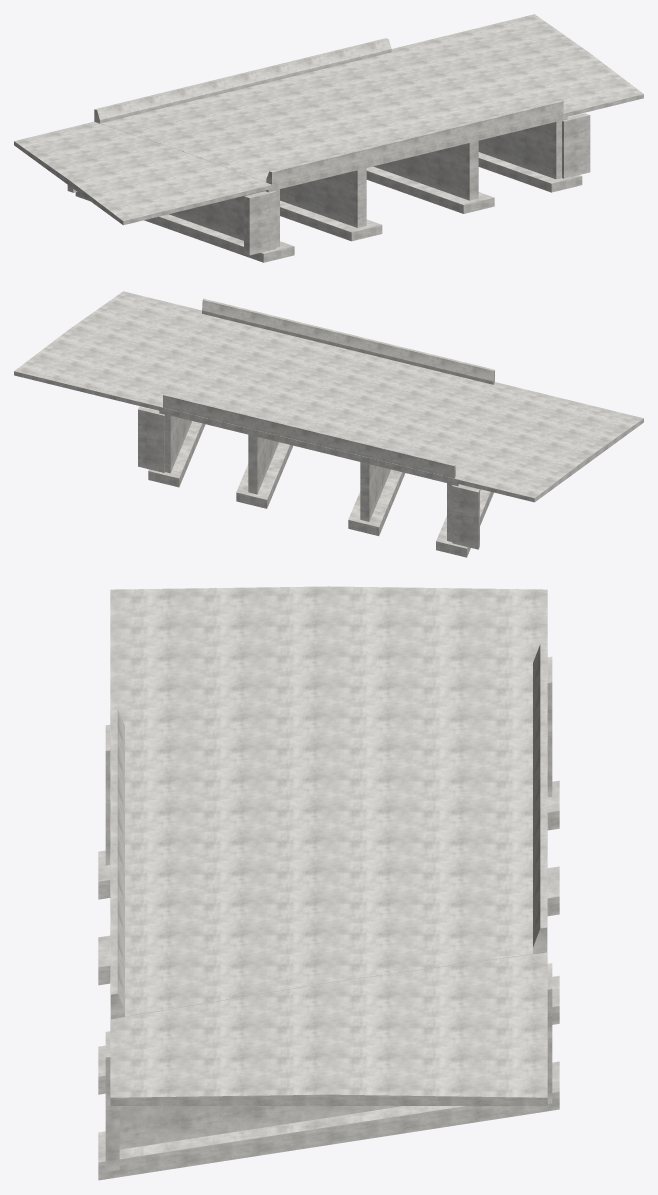
The model's file is model_render.glb.
3 views of the same model, one above another, from view 1: azimuth 30°, elevation 25°; view 2: azimuth 150°, elevation 25°; view 3: azimuth 270°, elevation 25° (orthographic). The views are drawn at different scales.
Visible parts, largest first — view 1: overlay, approach_0, approach_1, support_2, support_1, support_3, deck, support_0, footing_2, footing_0, wing_0_-1, wing_1_-1 (+8 smaller); view 2: overlay, approach_0, approach_1, deck, wing_0_1, wing_1_1, rail_-1_0, rail_-1_2, rail_-1_1, footing_1, footing_2, rail_1_0 (+7 smaller); view 3: overlay, approach_1, approach_0, footing_3, support_3, rail_1_2, rail_-1_2, wing_1_-1, rail_1_0, rail_1_1, rail_-1_1, rail_-1_0 (+5 smaller).
Boxes of the visible parts, <box> form: overlay: <box>100,52,540,182</box>; approach_0: <box>14,121,272,225</box>; approach_1: <box>391,14,643,117</box>; support_2: <box>373,140,478,200</box>; support_1: <box>280,168,366,227</box>; support_3: <box>478,119,567,179</box>; deck: <box>272,113,563,190</box>; support_0: <box>169,189,279,247</box>; footing_2: <box>366,166,494,213</box>; footing_0: <box>75,192,294,262</box>; wing_0_-1: <box>244,191,275,255</box>; wing_1_-1: <box>562,113,590,178</box>; overlay: <box>168,314,493,473</box>; approach_0: <box>454,382,643,502</box>; approach_1: <box>14,291,201,411</box>; deck: <box>163,407,454,484</box>; wing_0_1: <box>452,484,479,549</box>; wing_1_1: <box>138,406,164,472</box>; rail_-1_0: <box>396,346,494,384</box>; rail_-1_2: <box>202,298,300,337</box>; rail_-1_1: <box>299,322,397,360</box>; footing_1: <box>348,469,405,535</box>; footing_2: <box>236,442,292,508</box>; rail_1_0: <box>357,441,455,478</box>; overlay: <box>125,669,532,1016</box>; approach_1: <box>110,952,547,1105</box>; approach_0: <box>110,586,547,734</box>; footing_3: <box>98,1061,559,1180</box>; support_3: <box>119,1106,402,1149</box>; rail_1_2: <box>533,832,546,954</box>; rail_-1_2: <box>111,898,124,1019</box>; wing_1_-1: <box>105,1031,119,1171</box>; rail_1_0: <box>533,643,546,756</box>; rail_1_1: <box>533,738,546,851</box>; rail_-1_1: <box>111,804,124,914</box>; rail_-1_0: <box>111,709,124,819</box>.
Bounding box in the file's own units: 39.5 × 6.19 × 15.16.
Materials: 2 (1 with a texture image).
